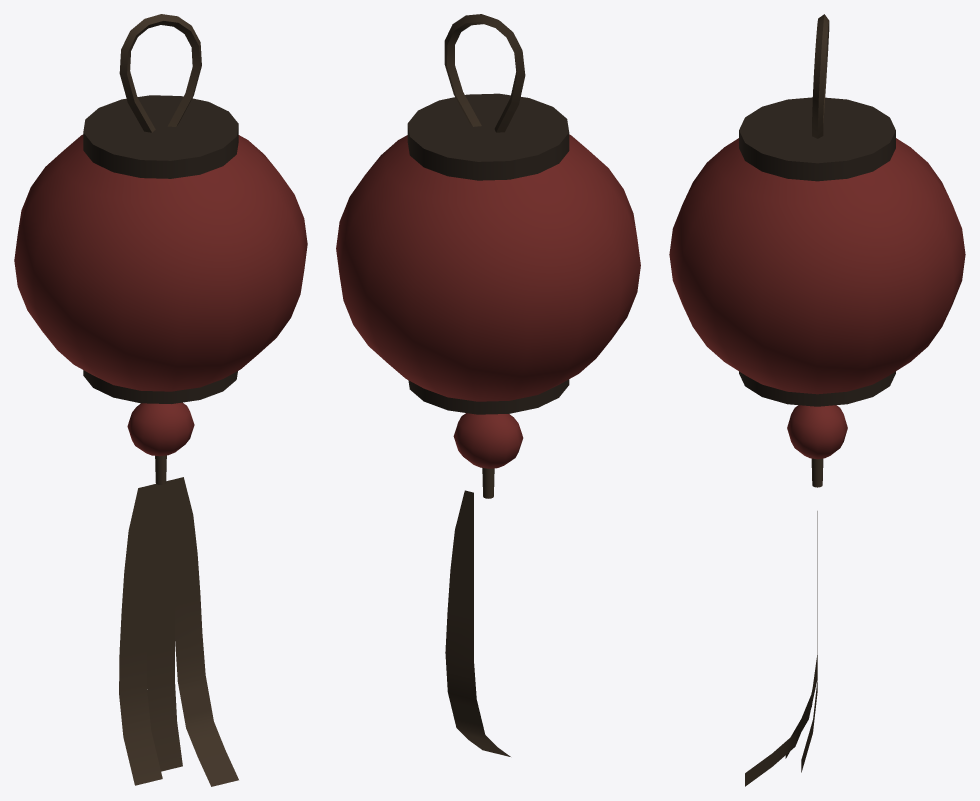
The model's file is LamparaBola (1).fbx.
The picture shows the model from 3 angles, left to right: view 1: azimuth 30°, elevation 25°; view 2: azimuth 150°, elevation 25°; view 3: azimuth 270°, elevation 25°; orthographic projection. The views are drawn at different scales.
Visible parts, largest first — view 1: Bola, Plane, Plane.002, Cuerditas, BolitaInf, CuerditaSuperior; view 2: Bola, Plane.002, BolitaInf, CuerditaSuperior; view 3: Bola, BolitaInf, CuerditaSuperior, Plane.002.
Part boxes in pixels (x1,y1,x2,y2): Bola: [14, 95, 307, 403]; Plane: [147, 479, 182, 771]; Plane.002: [175, 477, 238, 786]; Cuerditas: [119, 486, 162, 785]; BolitaInf: [127, 402, 194, 456]; CuerditaSuperior: [119, 14, 201, 132]; Bola: [336, 93, 640, 414]; Plane.002: [445, 490, 510, 756]; BolitaInf: [453, 413, 523, 468]; CuerditaSuperior: [444, 14, 525, 132]; Bola: [669, 97, 965, 406]; BolitaInf: [787, 405, 847, 459]; CuerditaSuperior: [812, 14, 829, 138]; Plane.002: [745, 511, 817, 786].
Size of the model in its own units: 170 by 473 by 170.
